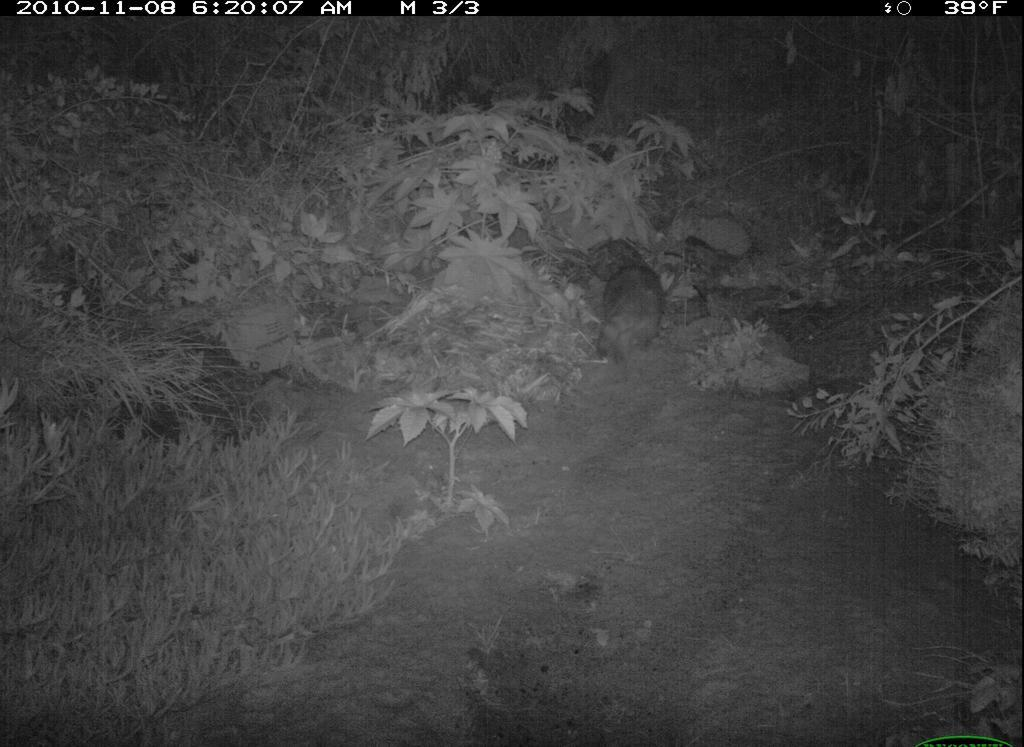raccoon: (586, 258, 670, 377)
